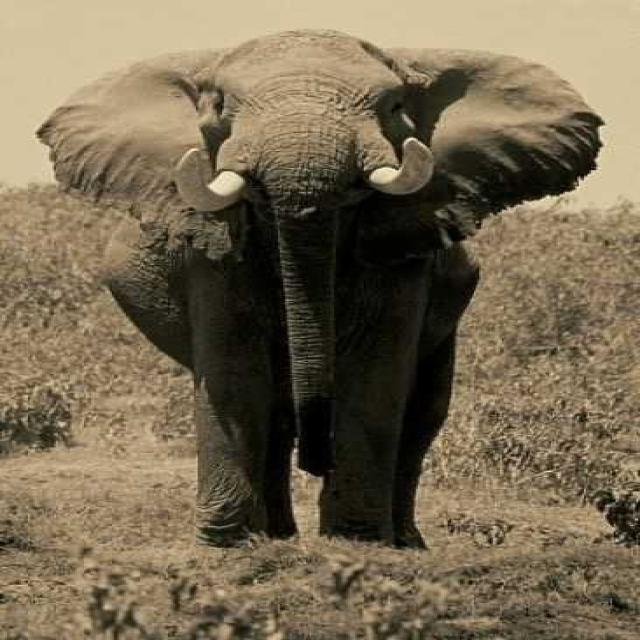Elephant: (31, 28, 607, 551)
